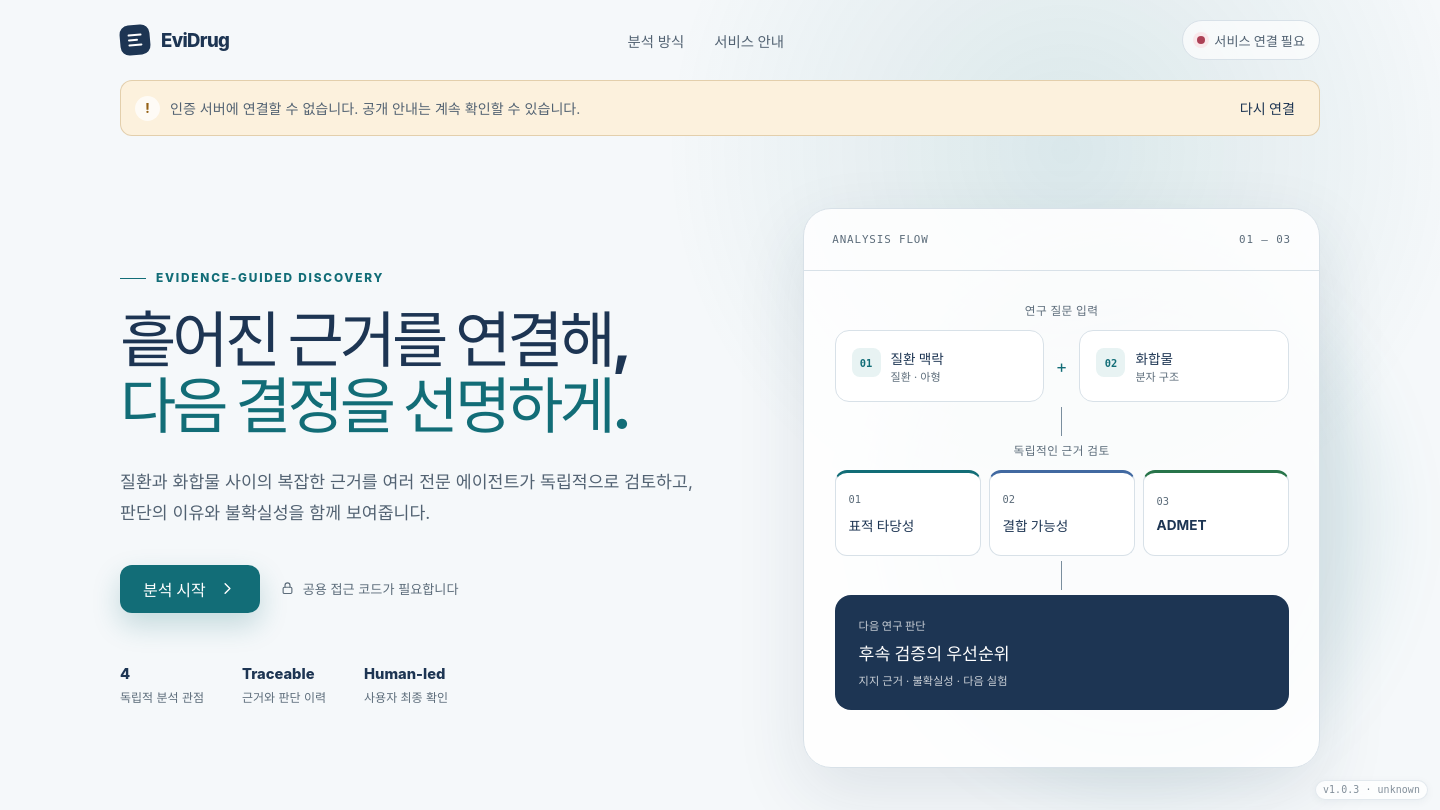
Test case: App authentication flow › keeps public information available and retries a failed session check
This screenshot has width=1440, height=810.
Expected: the text "인증 서버에 연결할 수 없습니다. 공개 안내는 계속 확인할 수 있습니다." is shown, [170,98,580,118]
Expected: the heading "흩어진 근거를 연결해, 다음 결정을 선명하게." is shown, [120,307,707,439]
Click the button "다시 연결" at (1267, 108), box [1230,91,1305,125]
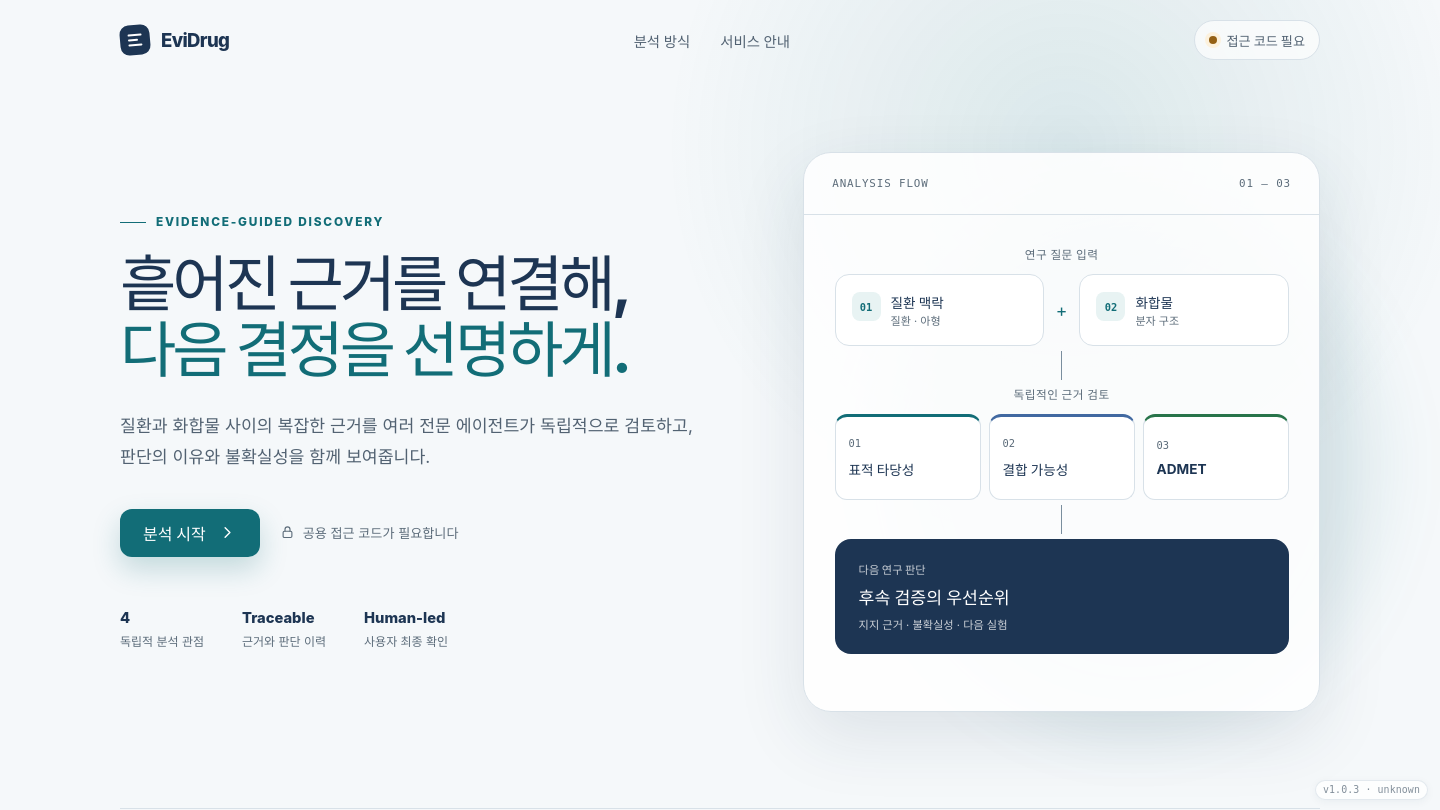
Expected: the button "접근 코드 필요" is shown, [1194,20,1320,60]
